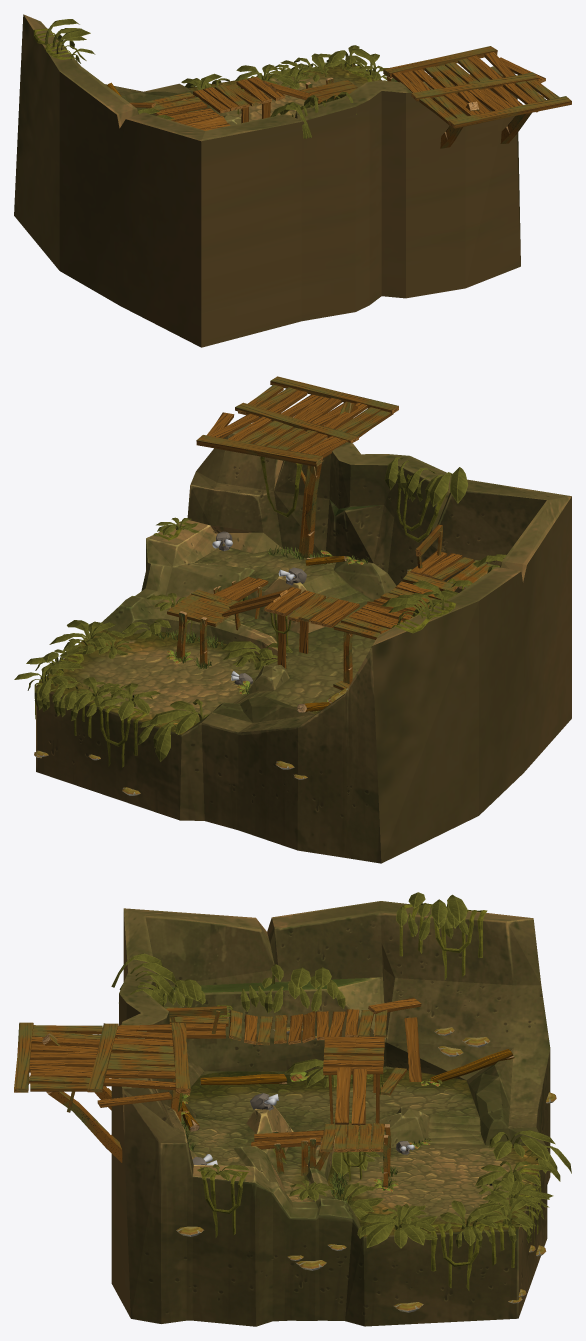
The model's file is DG01_Elemento de cenário 10.fbx.
The picture shows the model from 3 angles, top to bottom: view 1: azimuth 30°, elevation 25°; view 2: azimuth 150°, elevation 25°; view 3: azimuth 270°, elevation 25°; orthographic projection. The views are drawn at different scales.
Visible parts, largest first — view 1: Plane001, Box078, Box076, Box077, Plane493, Box083; view 2: Plane001, Box077, Box079, Box078, Plane552, Box076; view 3: Plane001, Plane553, Plane493, Box083, Box076, Box077, Box078, Plane559, Box054, Box111, Box033, Box032 (+6 smaller).
Boxes of the visible parts, x1=… form: Plane001: x1=14, y1=14, x2=520, y2=347; Box078: x1=448, y1=96, x2=571, y2=128; Box076: x1=411, y1=72, x2=538, y2=101; Box077: x1=383, y1=46, x2=497, y2=77; Plane493: x1=33, y1=28, x2=77, y2=61; Box083: x1=500, y1=95, x2=543, y2=143; Plane001: x1=36, y1=423, x2=571, y2=863; Box077: x1=196, y1=435, x2=323, y2=466; Box079: x1=298, y1=463, x2=321, y2=558; Box078: x1=270, y1=376, x2=398, y2=414; Plane552: x1=74, y1=696, x2=147, y2=767; Box076: x1=235, y1=402, x2=358, y2=442; Plane001: x1=111, y1=901, x2=550, y2=1326; Plane553: x1=431, y1=1222, x2=515, y2=1290; Plane493: x1=399, y1=903, x2=487, y2=980; Box083: x1=46, y1=1091, x2=122, y2=1162; Box076: x1=87, y1=1023, x2=118, y2=1092; Box077: x1=171, y1=1022, x2=190, y2=1093; Box078: x1=14, y1=1022, x2=33, y2=1092; Plane559: x1=200, y1=1170, x2=248, y2=1237; Box054: x1=404, y1=1017, x2=422, y2=1081; Box111: x1=430, y1=1049, x2=514, y2=1082; Box033: x1=334, y1=1067, x2=351, y2=1124; Box032: x1=351, y1=1069, x2=366, y2=1125.
Size of the model in its own units: 991 by 542 by 1103.
